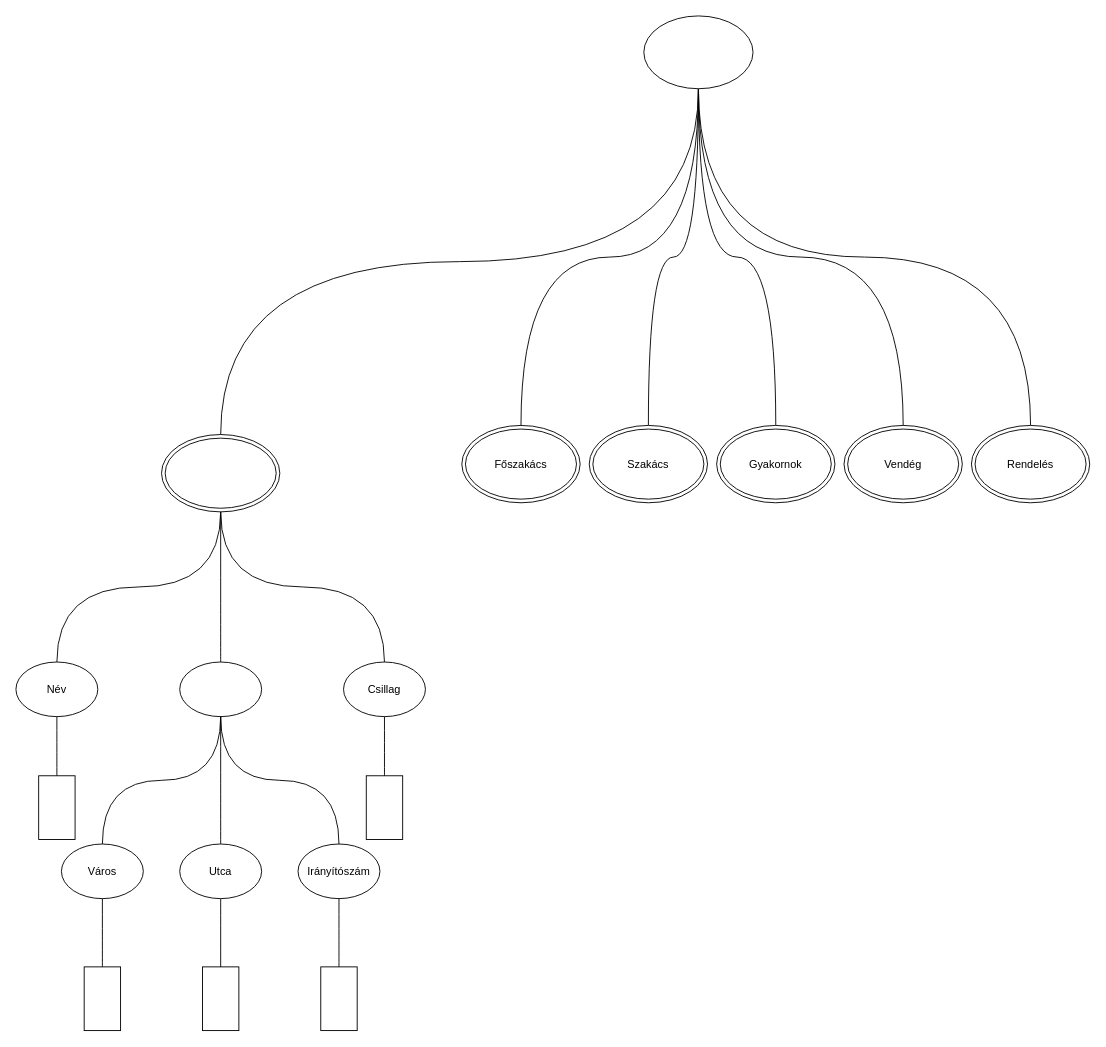
This 1106x1047 diagram has some shape labels left out. Each missing label, with the centre of its shape:
"Cím" belongs at point 220,689.
"Vendéglátás" belongs at point 698,52.
"Étterem" belongs at point 220,473.
